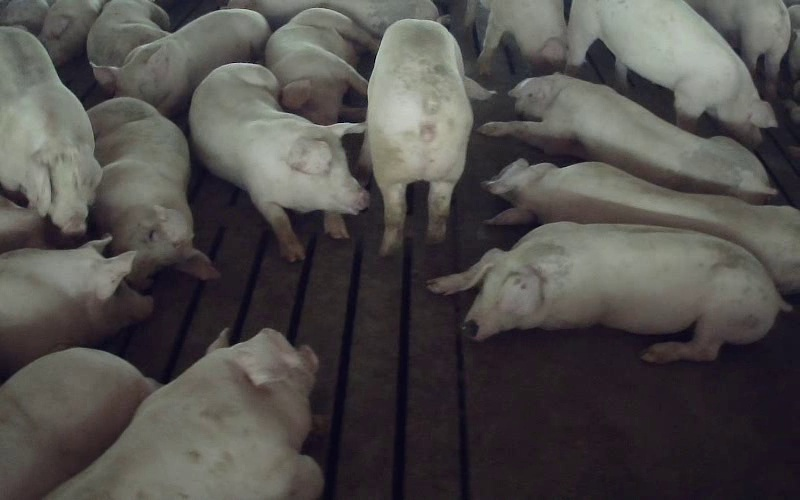pig: (428, 224, 789, 362), (50, 329, 322, 499), (483, 159, 799, 293), (479, 73, 775, 203), (567, 0, 775, 146), (365, 19, 491, 255), (88, 98, 218, 289), (0, 348, 155, 499), (0, 237, 152, 375), (92, 9, 269, 115), (265, 8, 377, 124), (687, 0, 790, 98), (227, 0, 438, 37), (465, 0, 565, 74)
